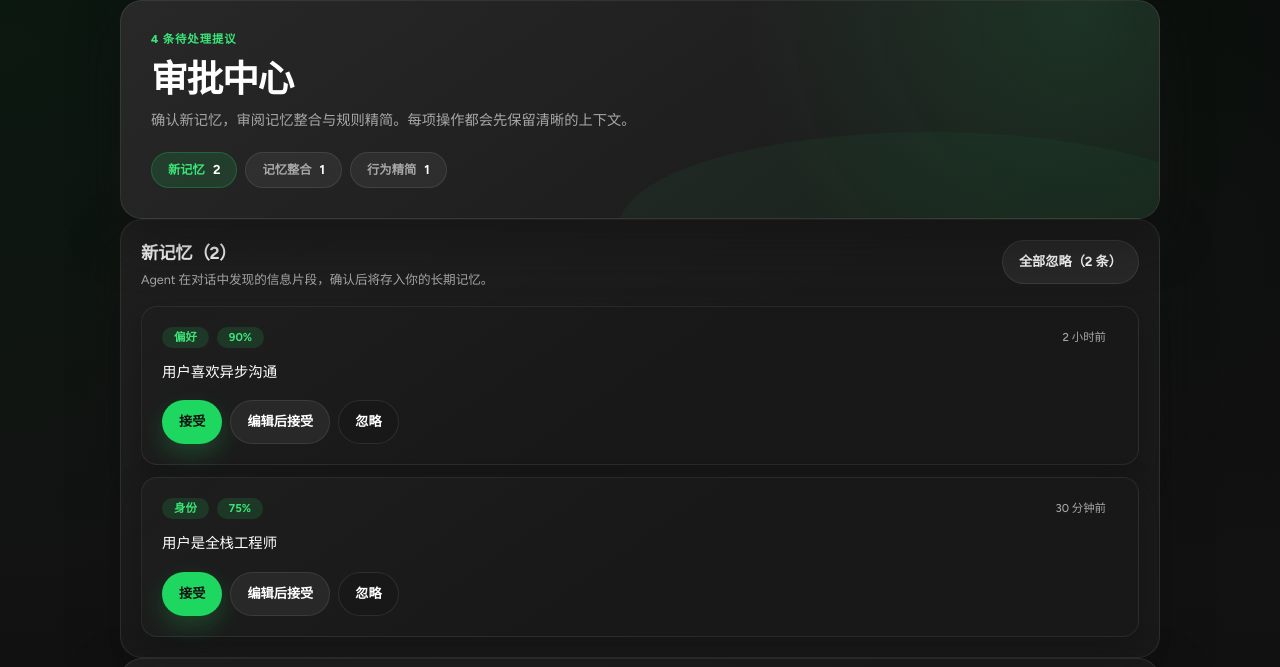
Scenario: ApprovalCenterPage › memory accept 后候选从列表移除
Expected: the text "用户喜欢异步沟通" is shown, left=162, top=363, right=277, bottom=381
# memory 卡的接受按钮在最前（新记忆 section 在页面靠前）
Click the button "接受" below "用户喜欢异步沟通" at (192, 422), box left=162, top=400, right=222, bottom=444
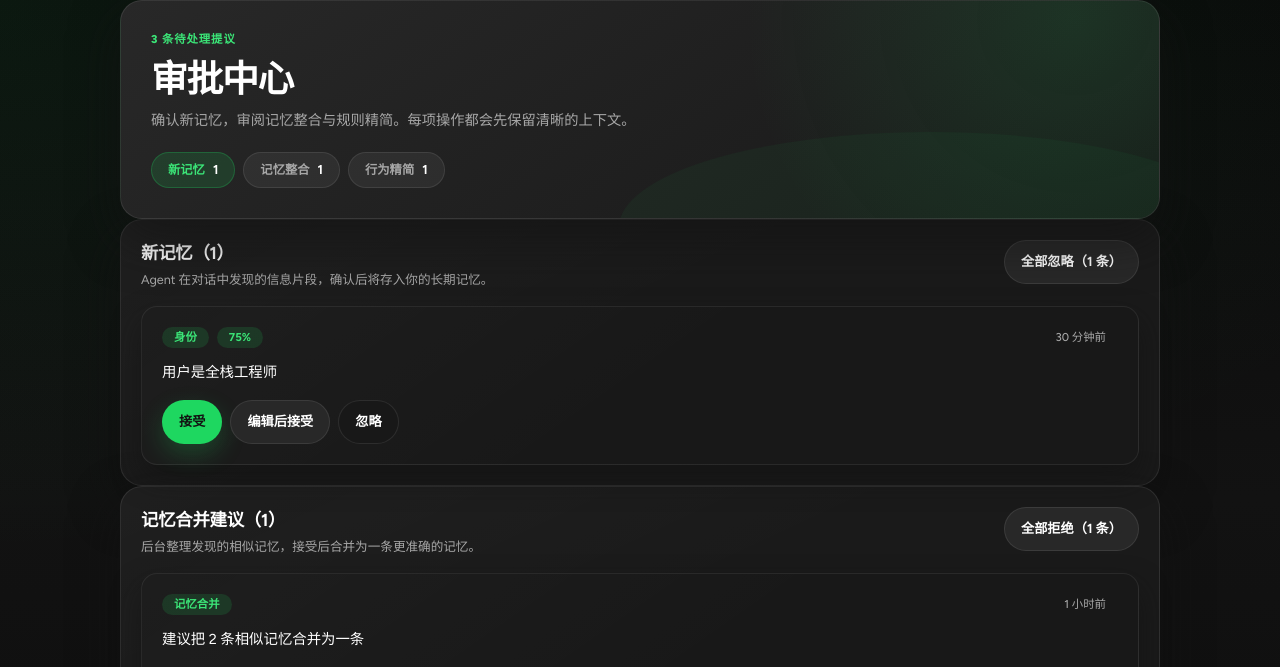
Expected: the text "用户是全栈工程师" is shown, left=162, top=363, right=277, bottom=381
Result: the text "用户喜欢异步沟通" is gone
